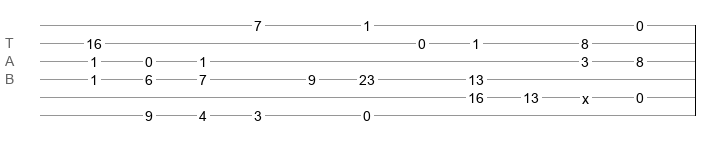0: (145, 54, 153, 64), (363, 108, 371, 118), (418, 36, 426, 46), (636, 90, 644, 100), (636, 18, 644, 28)
1: (90, 54, 98, 64), (90, 72, 98, 82), (199, 54, 207, 64), (363, 18, 371, 28), (472, 36, 480, 46)
13: (468, 72, 484, 82), (523, 90, 539, 100)
16: (86, 36, 102, 46), (468, 90, 484, 100)
23: (359, 72, 375, 82)
3: (254, 108, 262, 118), (581, 54, 589, 64)
4: (199, 108, 207, 118)
6: (145, 72, 153, 82)
7: (199, 72, 207, 82), (254, 18, 262, 28)
8: (581, 36, 589, 46), (636, 54, 644, 64)
9: (145, 108, 153, 118), (308, 72, 316, 82)
x: (582, 91, 589, 99)
